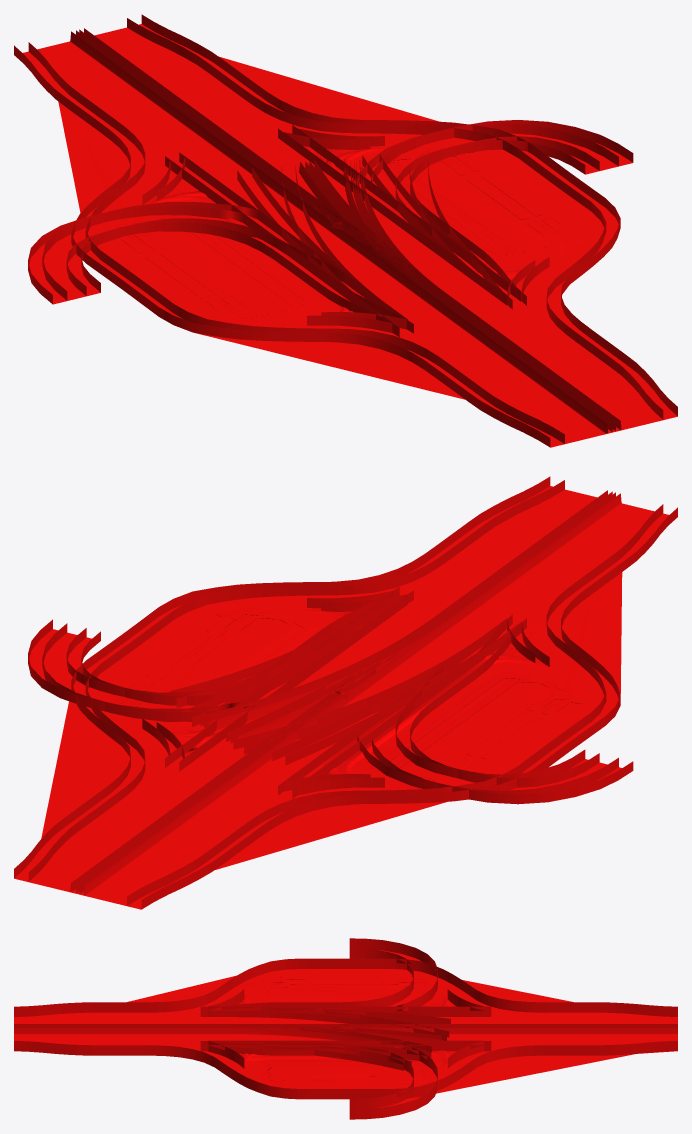
The model's file is modules_colmesh.fbx.
3 renders of one model, top to bottom at view 1: azimuth 30°, elevation 25°; view 2: azimuth 150°, elevation 25°; view 3: azimuth 270°, elevation 25°, orthographic. The views are drawn at different scales.
Visible parts, largest first — view 1: style1_2lanes_parkingspace, style1_3lanes_parkingspace, style1_2lanes_exits, style1_3lanes_exits, style3_2lanes_parkingspace, style2_2lanes_exits, style1_2lanes_curve_15degrees, style3_2lanes_exits, style2_2lanes_parkingspace, style1_fade_2_to_3lanes, style1_2lanes_curve_30degrees, style1_3lanes_curve_15degrees (+3 smaller); view 2: style1_3lanes_parkingspace, style1_2lanes_parkingspace, style1_2lanes_exits, style1_3lanes_exits, style3_2lanes_parkingspace, style1_2lanes_curve_15degrees, style1_2lanes_curve_30degrees, style1_3lanes_curve_30degrees, style1_3lanes_curve_15degrees, style2_2lanes_parkingspace, style3_2lanes_exits, style2_3lanes_exits (+5 smaller); view 3: style1_2lanes_parkingspace, style1_3lanes_parkingspace, style1_2lanes_exits, style1_3lanes_exits, style3_2lanes_parkingspace, style1_2lanes_curve_30degrees, style1_3lanes_curve_30degrees, style1_3lanes_curve_15degrees, style1_2lanes_curve_15degrees, style3_3lanes_curve_30degrees, style2_2lanes_parkingspace, style1_fade_2_to_3lanes (+5 smaller).
Boxes of the visible parts, left/top/right/bottom form: style1_2lanes_parkingspace: left=28, top=18, right=663, bottom=443; style1_3lanes_parkingspace: left=14, top=14, right=677, bottom=447; style1_2lanes_exits: left=42, top=123, right=618, bottom=333; style1_3lanes_exits: left=28, top=120, right=633, bottom=337; style3_2lanes_parkingspace: left=70, top=29, right=621, bottom=433; style2_2lanes_exits: left=45, top=135, right=614, bottom=322; style1_2lanes_curve_15degrees: left=252, top=155, right=483, bottom=302; style3_2lanes_exits: left=221, top=140, right=467, bottom=322; style2_2lanes_parkingspace: left=71, top=28, right=621, bottom=433; style1_fade_2_to_3lanes: left=275, top=174, right=445, bottom=282; style1_2lanes_curve_30degrees: left=295, top=160, right=486, bottom=303; style1_3lanes_curve_15degrees: left=237, top=154, right=499, bottom=303; style1_3lanes_parkingspace: left=14, top=476, right=677, bottom=909; style1_2lanes_parkingspace: left=28, top=480, right=663, bottom=905; style1_2lanes_exits: left=42, top=590, right=618, bottom=795; style1_3lanes_exits: left=28, top=587, right=633, bottom=804; style3_2lanes_parkingspace: left=70, top=491, right=621, bottom=895; style1_2lanes_curve_15degrees: left=192, top=611, right=468, bottom=761; style1_2lanes_curve_30degrees: left=176, top=609, right=477, bottom=749; style1_3lanes_curve_30degrees: left=170, top=604, right=495, bottom=754; style1_3lanes_curve_15degrees: left=181, top=607, right=484, bottom=765; style2_2lanes_parkingspace: left=70, top=490, right=620, bottom=895; style3_2lanes_exits: left=223, top=602, right=470, bottom=784; style2_3lanes_exits: left=30, top=600, right=613, bottom=796; style1_2lanes_parkingspace: left=14, top=963, right=677, bottom=1093; style1_3lanes_parkingspace: left=14, top=958, right=677, bottom=1099; style1_2lanes_exits: left=200, top=942, right=491, bottom=1113; style1_3lanes_exits: left=200, top=938, right=491, bottom=1119; style3_2lanes_parkingspace: left=14, top=1028, right=677, bottom=1034; style1_2lanes_curve_30degrees: left=232, top=1011, right=446, bottom=1065; style1_3lanes_curve_30degrees: left=230, top=1006, right=449, bottom=1070; style1_3lanes_curve_15degrees: left=235, top=1006, right=450, bottom=1060; style1_2lanes_curve_15degrees: left=236, top=1011, right=449, bottom=1057; style3_3lanes_curve_30degrees: left=230, top=1024, right=424, bottom=1050; style2_2lanes_parkingspace: left=14, top=1024, right=677, bottom=1034; style1_fade_2_to_3lanes: left=283, top=1006, right=408, bottom=1044.
Size of the model in its own units: 14994 by 245 by 24000.
